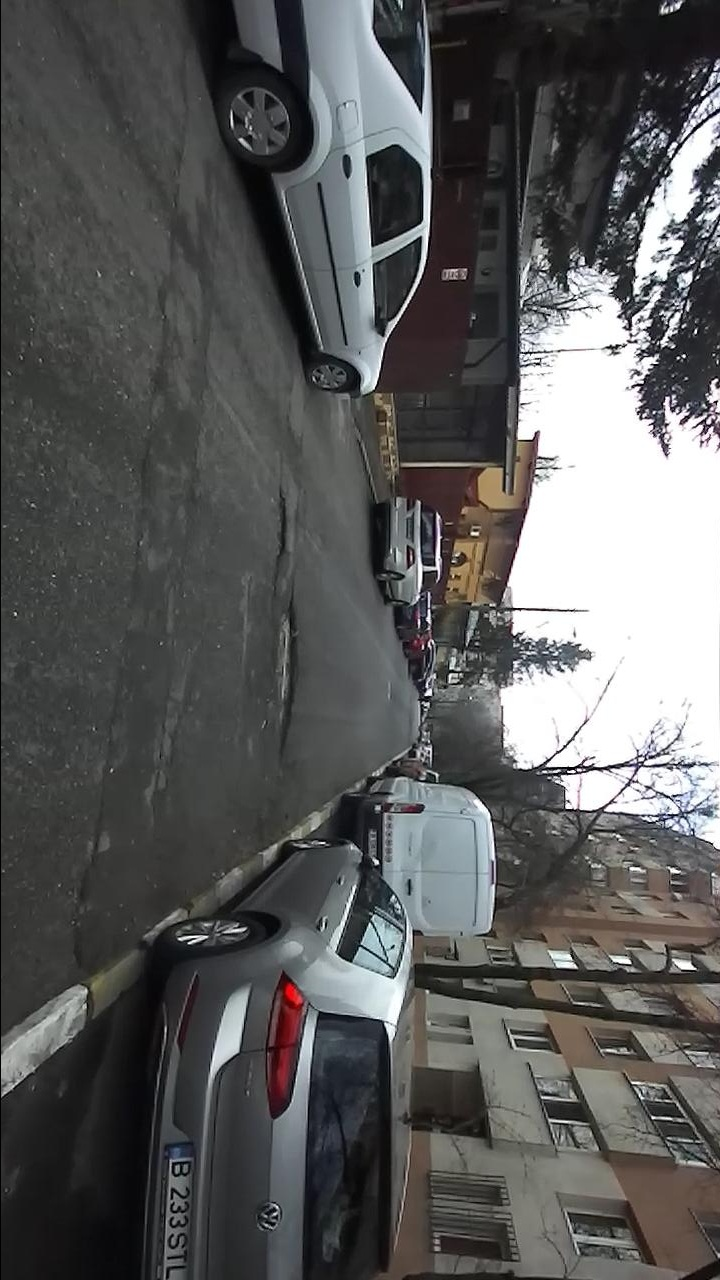pothole: (262, 588, 300, 768), (268, 483, 293, 576)
